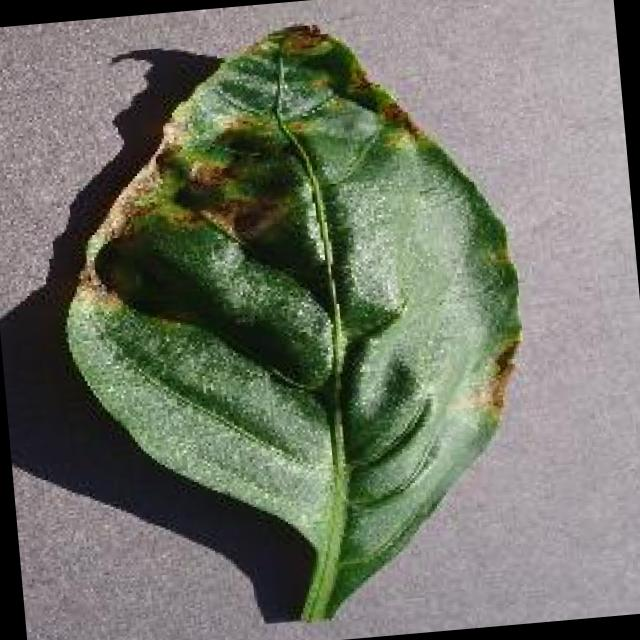Chilli_Bacterial_Spot: (34, 3, 550, 640), (168, 144, 296, 254), (224, 190, 293, 248), (271, 15, 329, 58), (180, 153, 233, 195)
